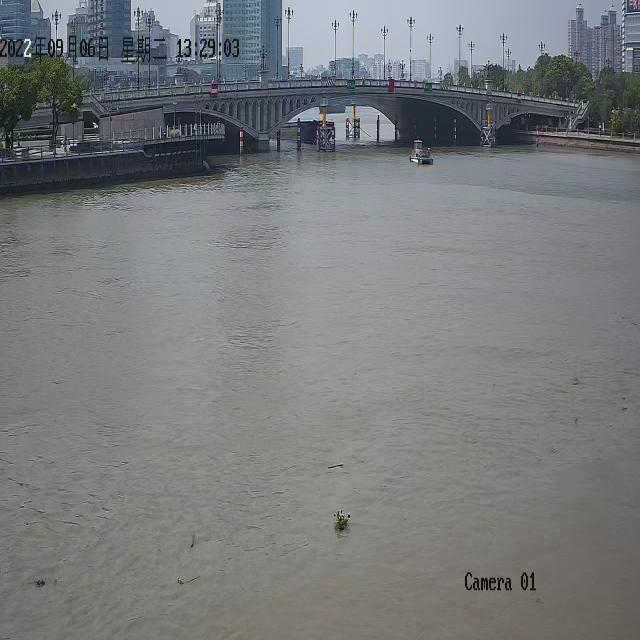ship: (270, 120, 334, 143), (409, 134, 433, 164), (318, 102, 345, 113)
